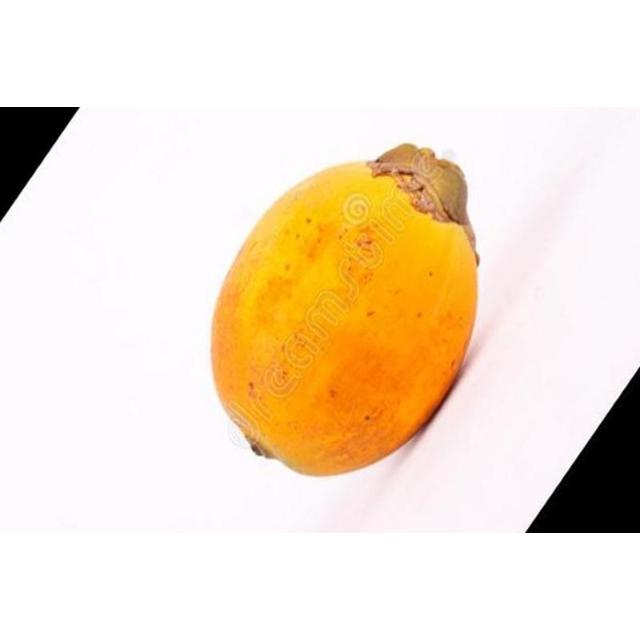good: (208, 144, 480, 480)
